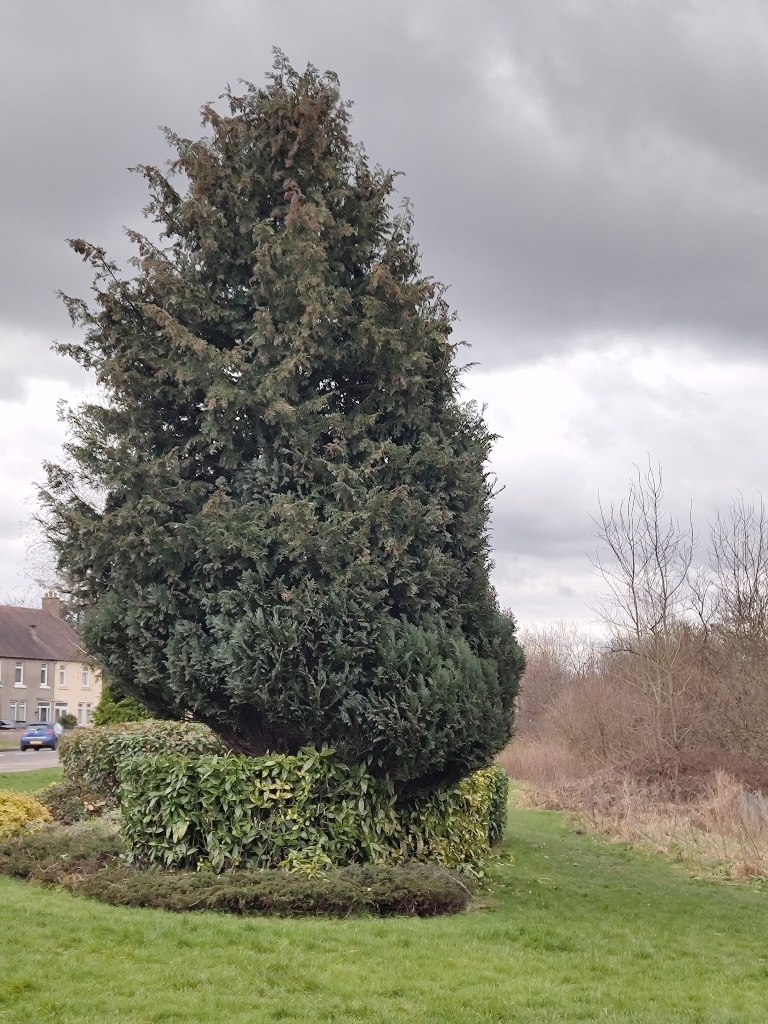Tree: (29, 42, 528, 872)
